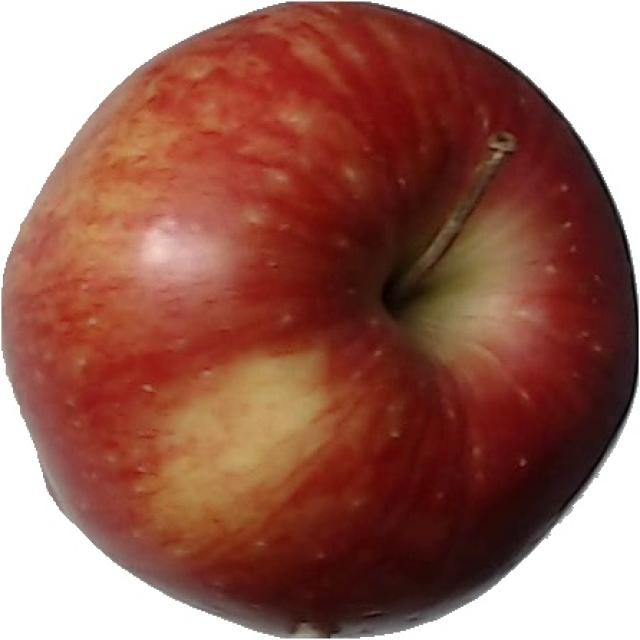apple: (0, 5, 640, 640)
